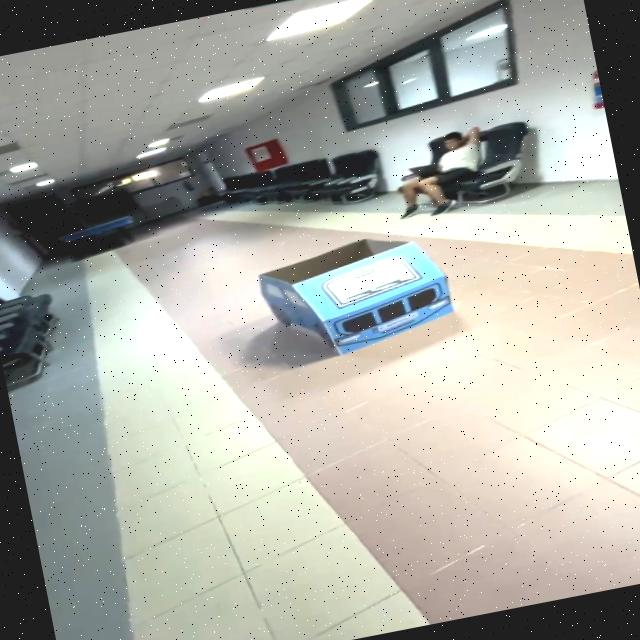blue_car: (231, 212, 470, 377)
